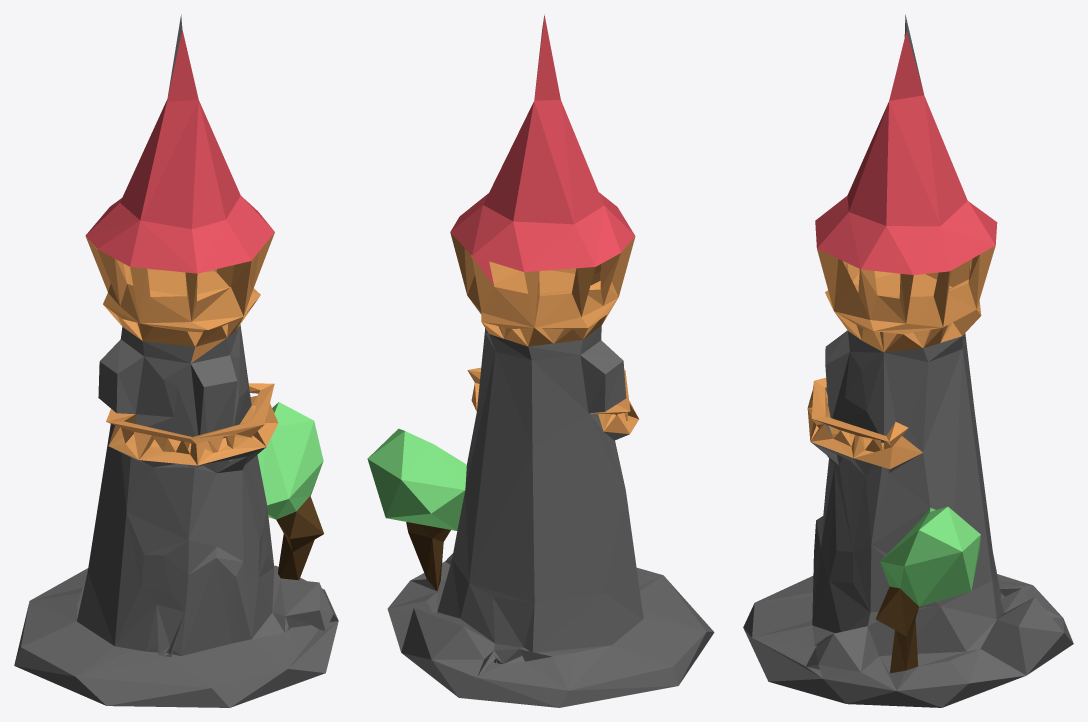
File: Torre.fbx
3 renders of one model, left to right at view 1: azimuth 30°, elevation 25°; view 2: azimuth 150°, elevation 25°; view 3: azimuth 270°, elevation 25°, orthographic.
Parts seen in each view (by area): view 1: baac8598ed42dc126fd5456096c95e9e; view 2: baac8598ed42dc126fd5456096c95e9e; view 3: baac8598ed42dc126fd5456096c95e9e.
Boxes of the visible parts, x1,y1,x2,y2 form: baac8598ed42dc126fd5456096c95e9e: (14, 14, 338, 707); baac8598ed42dc126fd5456096c95e9e: (367, 14, 714, 707); baac8598ed42dc126fd5456096c95e9e: (743, 14, 1073, 707).
Bounding box in the file's own units: 1587 × 3170 × 1507.
